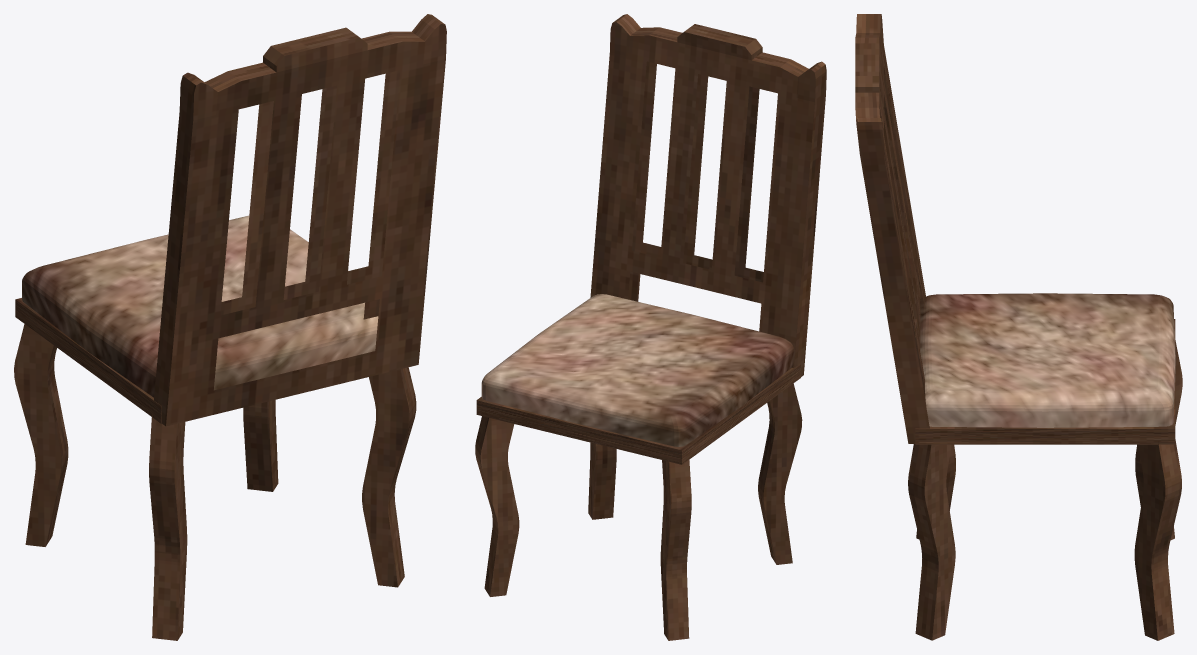
3 views of the same model, side by side, from view 1: azimuth 30°, elevation 25°; view 2: azimuth 150°, elevation 25°; view 3: azimuth 270°, elevation 25° (orthographic). The views are drawn at different scales.
Visible parts, largest first — view 1: 椅子; view 2: 椅子; view 3: 椅子.
Part boxes in pixels (x1,y1,x2,y2): 椅子: [14, 14, 446, 640]; 椅子: [475, 14, 826, 640]; 椅子: [855, 14, 1182, 640].
Size of the model in its own units: 91.89 by 194 by 110.
2 materials, 2 textured.
